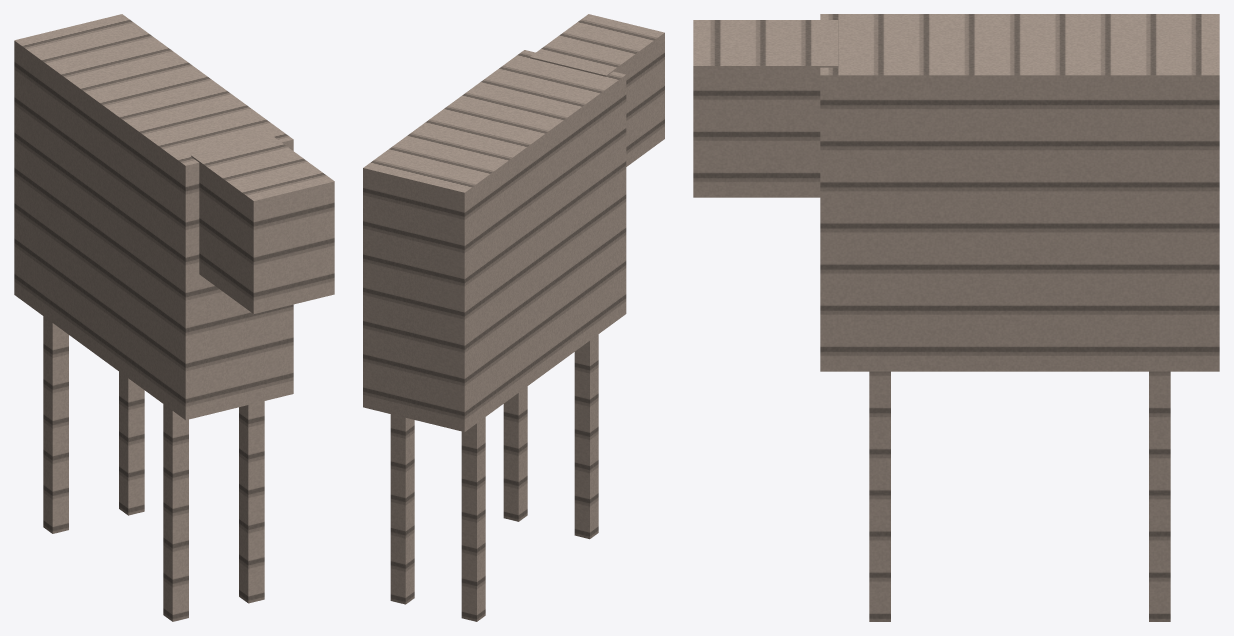
The model's file is animal_deer.glb.
The picture shows the model from 3 angles, left to right: view 1: azimuth 30°, elevation 25°; view 2: azimuth 150°, elevation 25°; view 3: azimuth 270°, elevation 25°; orthographic projection. The views are drawn at different scales.
Visible parts, largest first — view 1: animal_deer-col; view 2: animal_deer-col; view 3: animal_deer-col.
Part boxes in pixels (x1=…): animal_deer-col: x1=14, y1=14, x2=334, y2=621; animal_deer-col: x1=363, y1=14, x2=664, y2=621; animal_deer-col: x1=693, y1=14, x2=1219, y2=621.
Bounding box in the file's own units: 0.4 × 1.68 × 1.45.
1 material, 1 textured.
